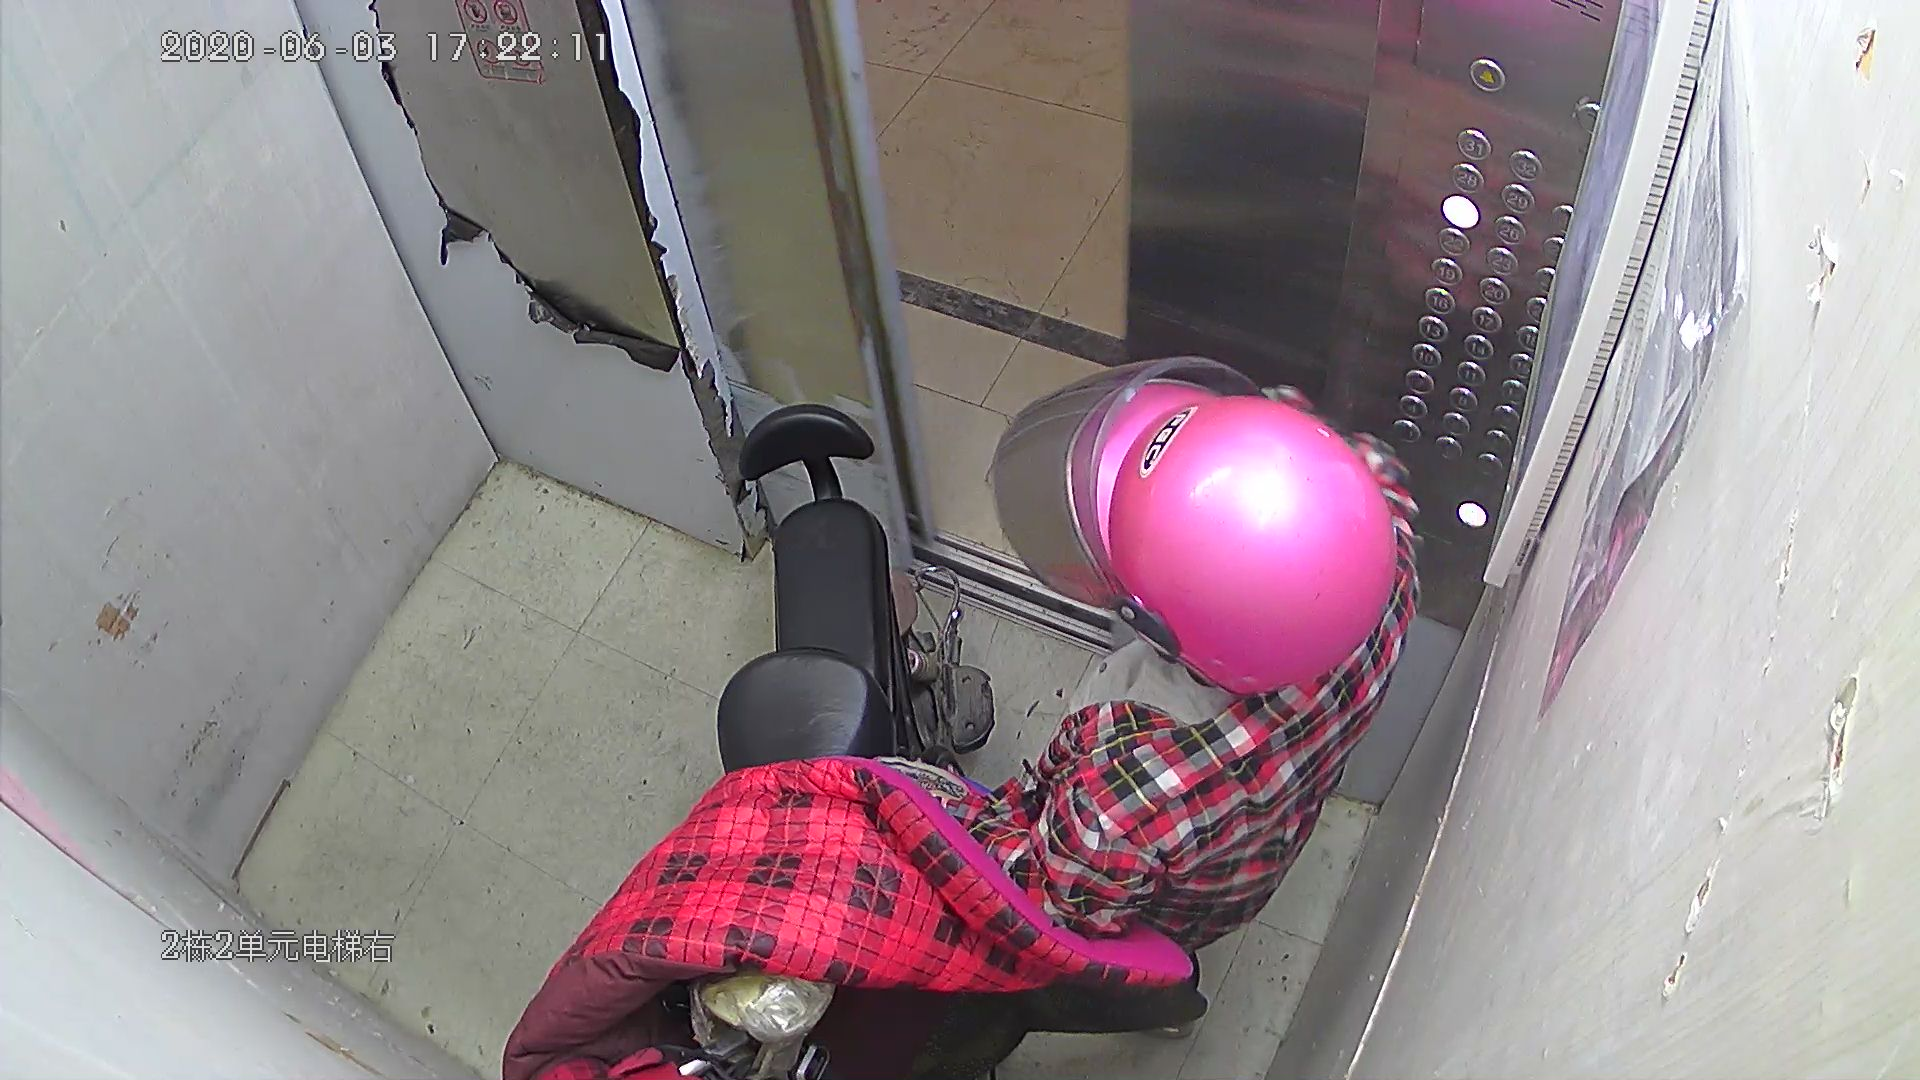Electric-bicycle: (675, 401, 980, 1080)
